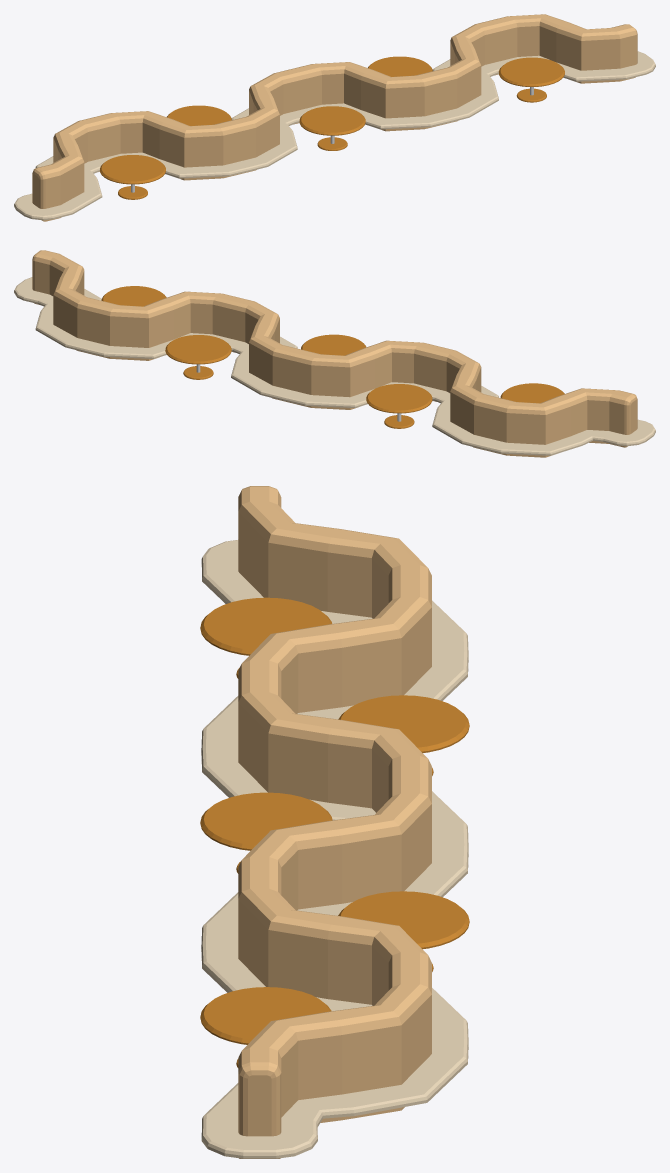
The model's file is Workspace.glb.
The picture shows the model from 3 angles, top to bottom: view 1: azimuth 30°, elevation 25°; view 2: azimuth 150°, elevation 25°; view 3: azimuth 270°, elevation 25°; orthographic projection. The views are drawn at different scales.
Parts seen in each view (by area): view 1: Cube.002, Cylinder.002, Cylinder, Cylinder.001, Cylinder.003, Cylinder.004; view 2: Cube.002, Cylinder.003, Cylinder.004, Cylinder.002, Cylinder, Cylinder.001; view 3: Cube.002, Cylinder.002, Cylinder.001, Cylinder.004, Cylinder, Cylinder.003.
Part boxes in pixels (<box>): Cube.002: <box>14,14,655,221</box>; Cylinder.002: <box>299,106,365,150</box>; Cylinder: <box>498,57,564,102</box>; Cylinder.001: <box>100,155,165,199</box>; Cylinder.003: <box>167,105,231,125</box>; Cylinder.004: <box>368,56,432,76</box>; Cube.002: <box>14,250,655,457</box>; Cylinder.003: <box>366,384,432,428</box>; Cylinder.004: <box>165,335,231,379</box>; Cylinder.002: <box>301,334,366,355</box>; Cylinder: <box>101,286,166,306</box>; Cylinder.001: <box>500,383,564,403</box>; Cube.002: <box>201,486,468,1158</box>; Cylinder.002: <box>200,792,332,873</box>; Cylinder.001: <box>200,597,332,678</box>; Cylinder.004: <box>338,891,469,971</box>; Cylinder: <box>200,987,331,1067</box>; Cylinder.003: <box>338,695,469,775</box>.
Size of the model in its own units: 19.33 by 1.4 by 3.58.
